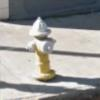a fire hydrant: (26, 14, 60, 81)
